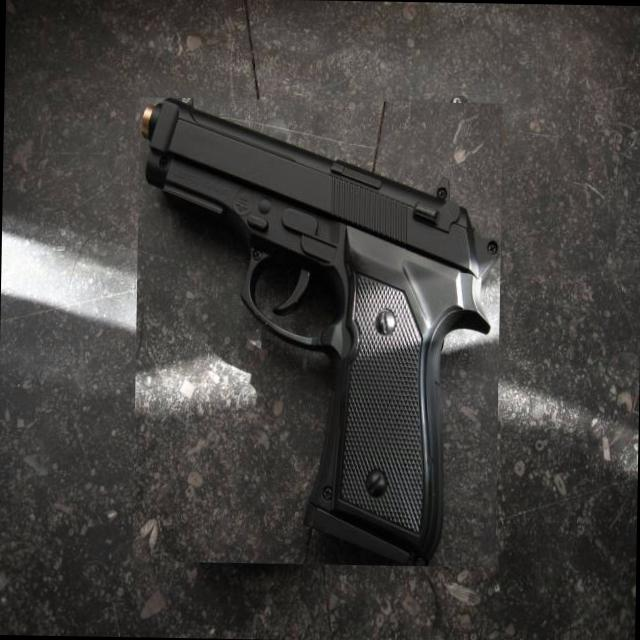Gun: (139, 98, 500, 566)
